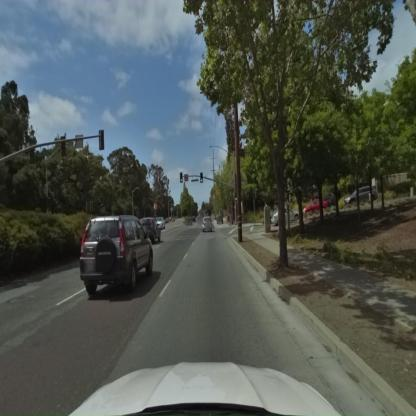car: (78, 216, 154, 298), (268, 195, 298, 226), (303, 196, 331, 220), (344, 185, 378, 203), (139, 218, 161, 244), (201, 218, 213, 232), (155, 218, 165, 229)
